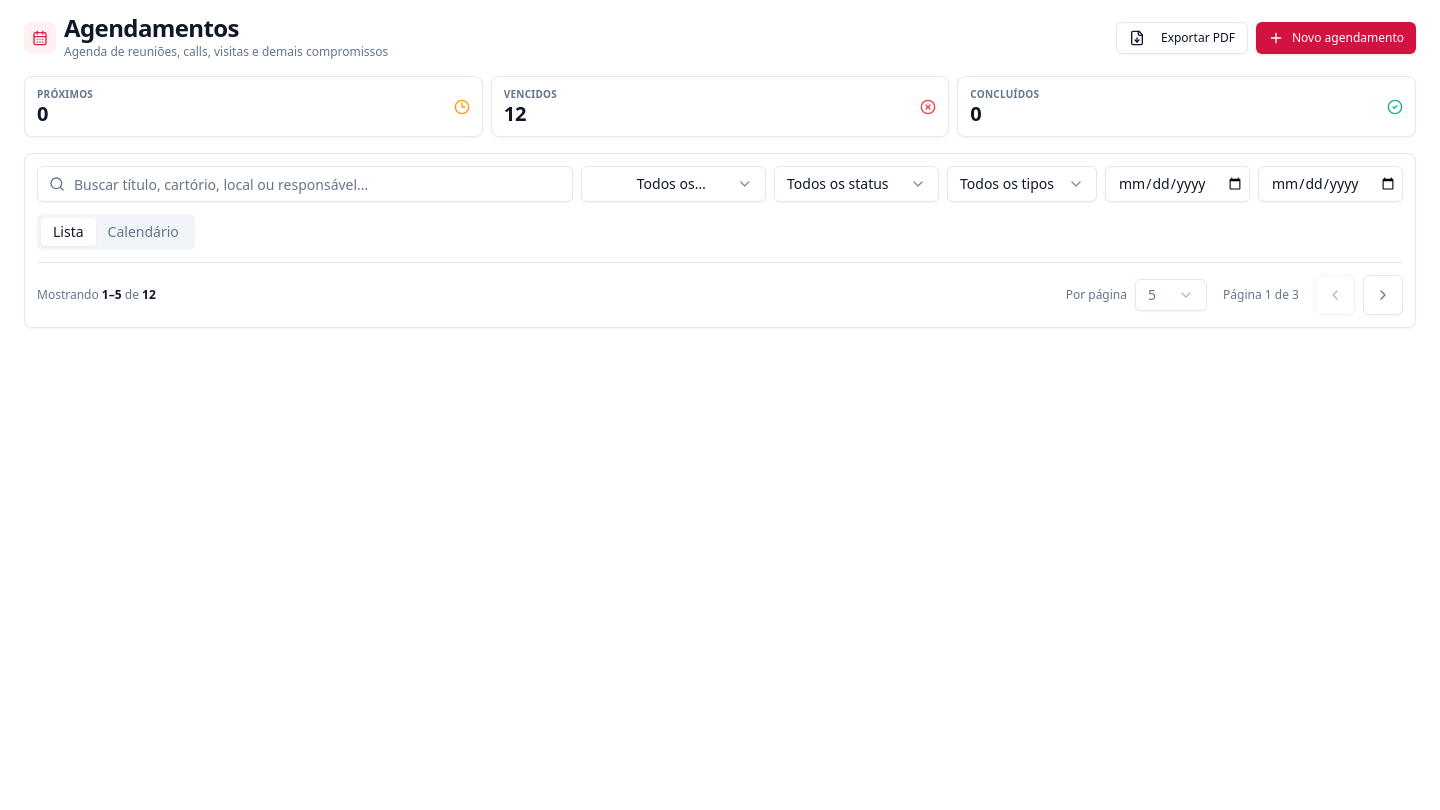
Scenario: CS/CX contatos e agendamentos — permissões › permite informar cartório e contato livres para um cliente lead
The image size is (1440, 810).
Click the button "Novo agendamento": (1336, 38) [1256, 22, 1416, 54]
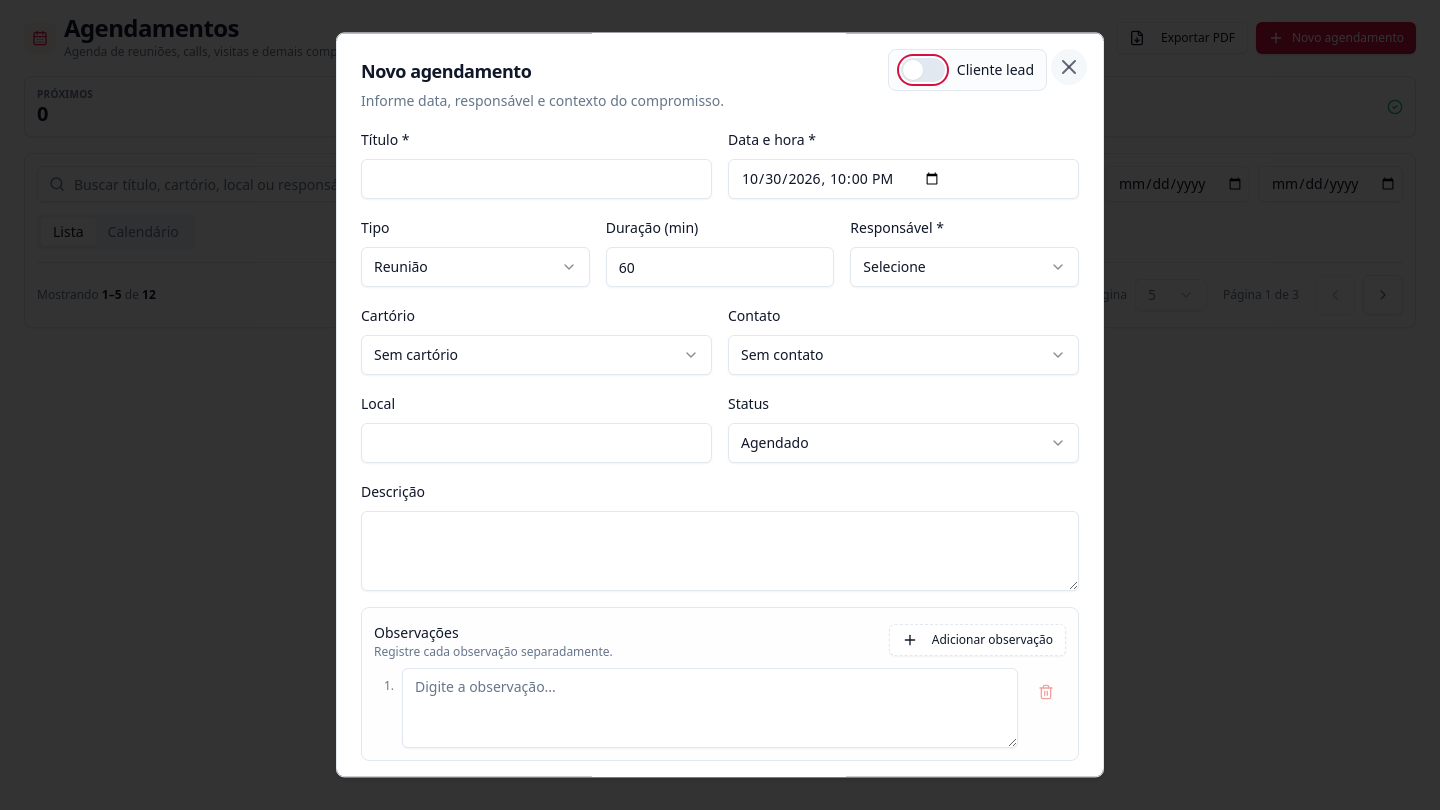
Expected: the field labelled "Cartório do lead" is not shown
Click the switch named "cliente lead": (923, 70) [901, 58, 945, 82]
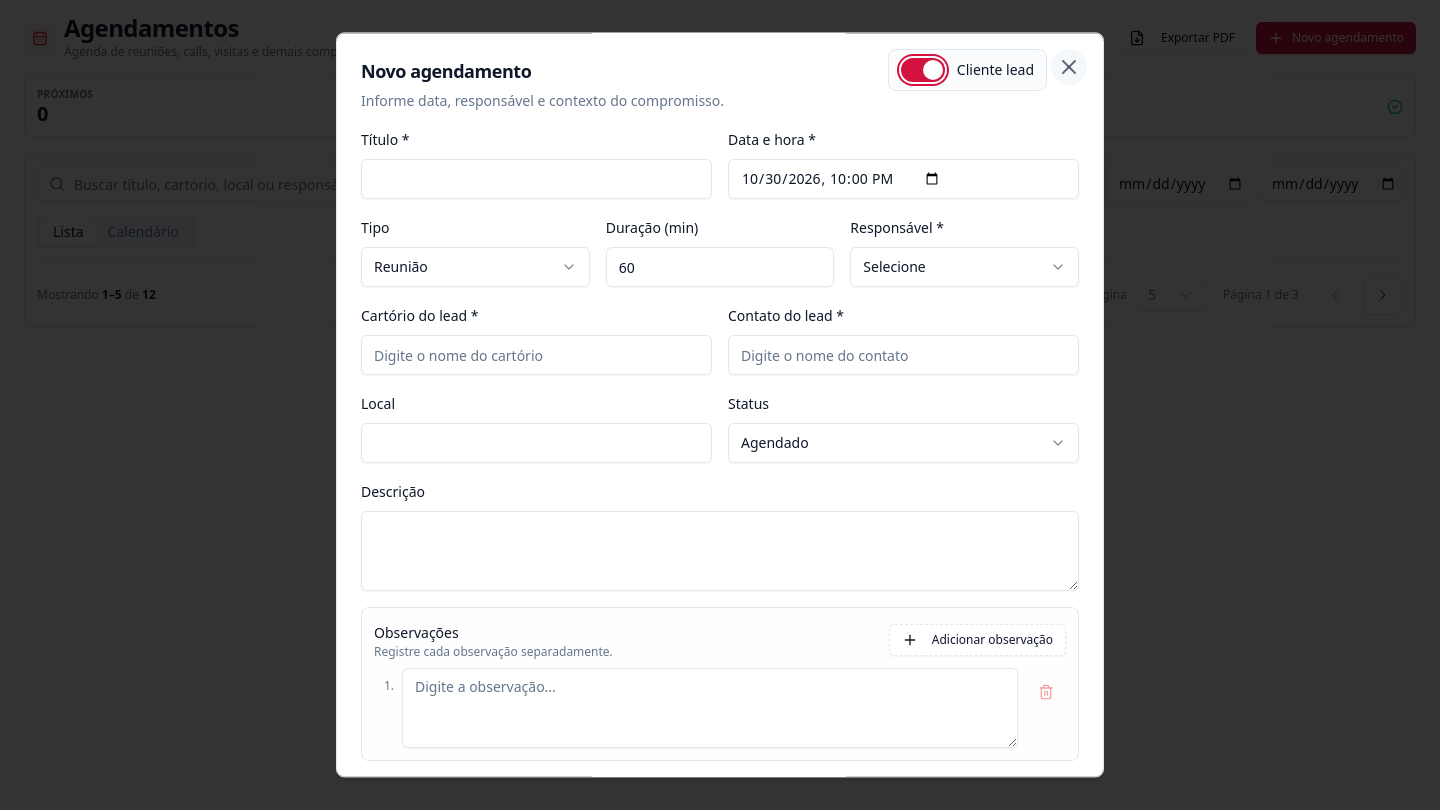
Result: the dropdown "Sem cartório" is gone
Result: the dropdown "Sem contato" is gone
